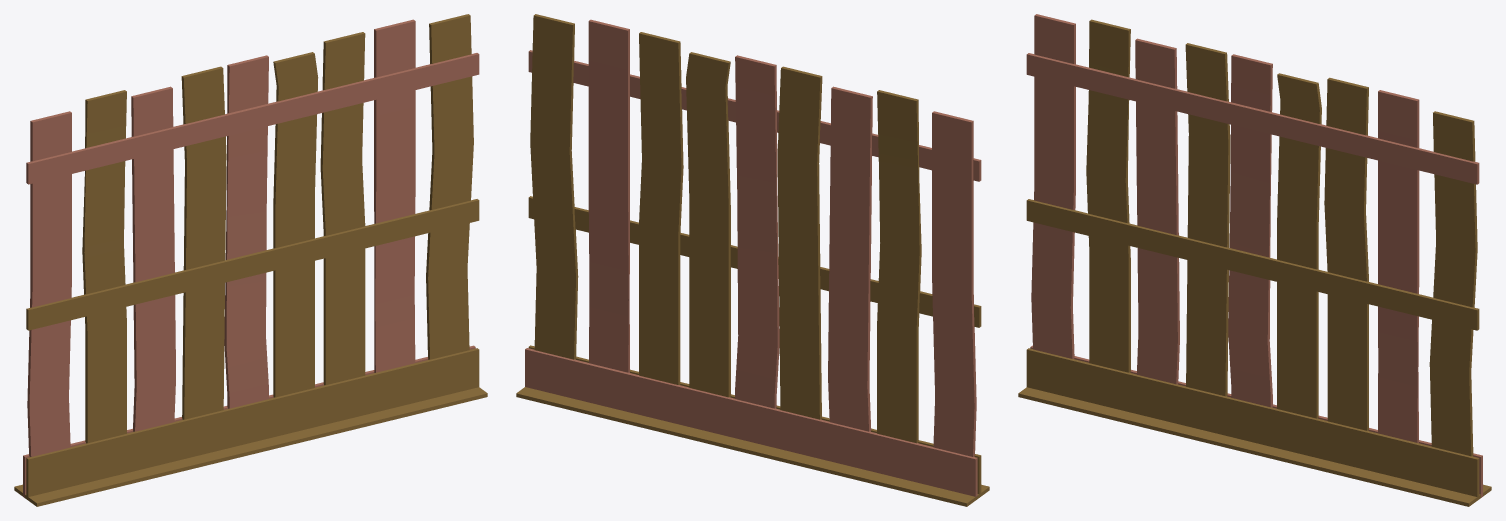
File: WoodWall.fbx
The picture shows the model from 3 angles, left to right: view 1: azimuth 30°, elevation 25°; view 2: azimuth 150°, elevation 25°; view 3: azimuth 330°, elevation 25°; orthographic projection.
Parts seen in each view (by area): view 1: Cube; view 2: Cube; view 3: Cube.
Boxes of the visible parts, bbox=[...] form: Cube: bbox=[14, 14, 487, 506]; Cube: bbox=[516, 14, 989, 506]; Cube: bbox=[1018, 14, 1491, 506].
Bounding box in the file's own units: 984 × 800 × 86.13.
